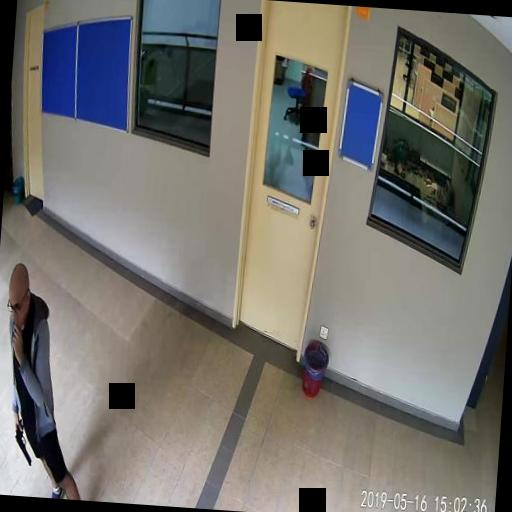Handgun: (12, 424, 32, 462)
